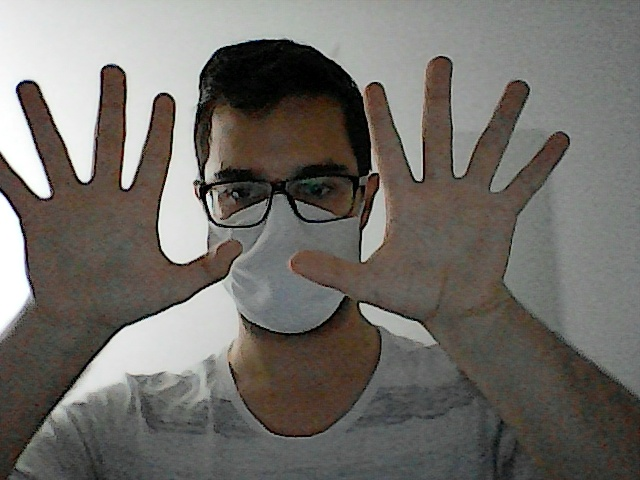jump: (279, 45, 582, 329), (1, 53, 247, 322)
